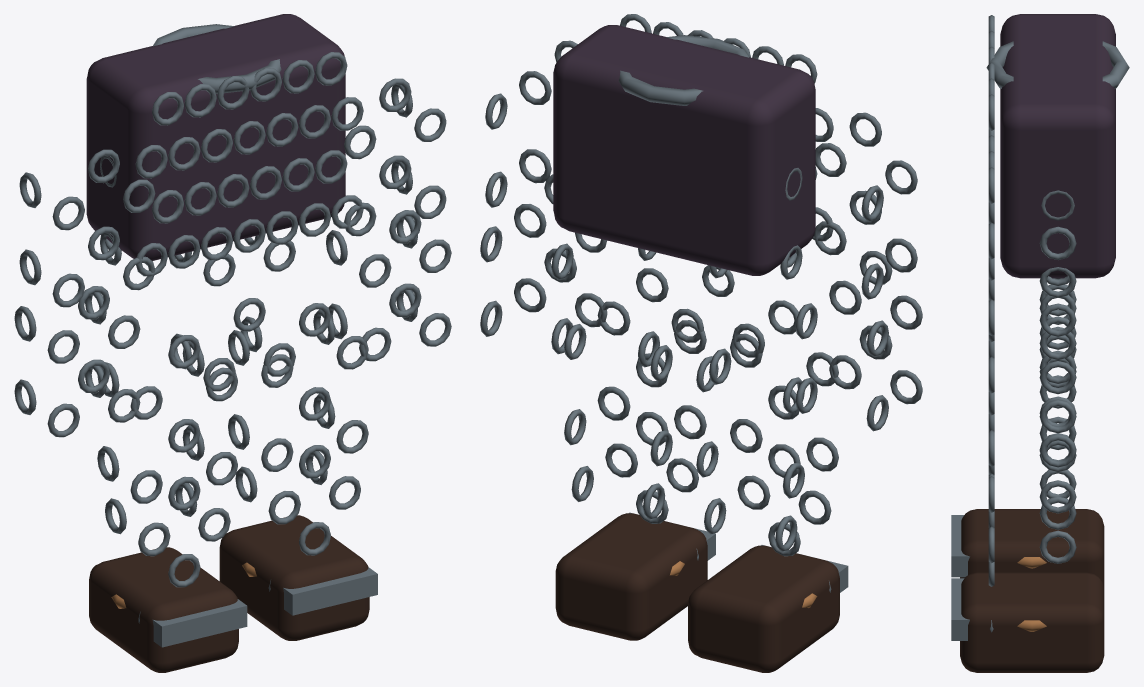
Rendered from armor-chainmail.glb.
3 views of the same model, side by side, from view 1: azimuth 30°, elevation 25°; view 2: azimuth 150°, elevation 25°; view 3: azimuth 270°, elevation 25° (orthographic).
Visible parts, largest first — view 1: chainmail-underlayer, leather-boot (×2), boot-toe-cap (×2), chainmail-neck-ring; view 2: chainmail-underlayer, leather-boot (×2), chainmail-neck-ring; view 3: chainmail-underlayer, leather-boot (×2), chainmail-side-ring (×18), boot-toe-cap (×2), chainmail-neck-ring.
Part boxes in pixels (<box>): chainmail-underlayer: <box>86,14,345,260</box>; leather-boot (×2): <box>89,515,369,672</box>; boot-toe-cap (×2): <box>152,567,377,647</box>; chainmail-neck-ring: <box>153,24,281,93</box>; chainmail-underlayer: <box>553,25,815,275</box>; leather-boot (×2): <box>555,513,839,672</box>; chainmail-neck-ring: <box>618,35,748,105</box>; chainmail-underlayer: <box>1000,14,1115,278</box>; leather-boot (×2): <box>960,509,1104,672</box>; chainmail-side-ring (×18): <box>1039,190,1076,563</box>; boot-toe-cap (×2): <box>951,515,969,640</box>; chainmail-neck-ring: <box>986,41,1129,88</box>.
Bounding box in the file's own units: 0.804 × 1.09 × 0.309.
